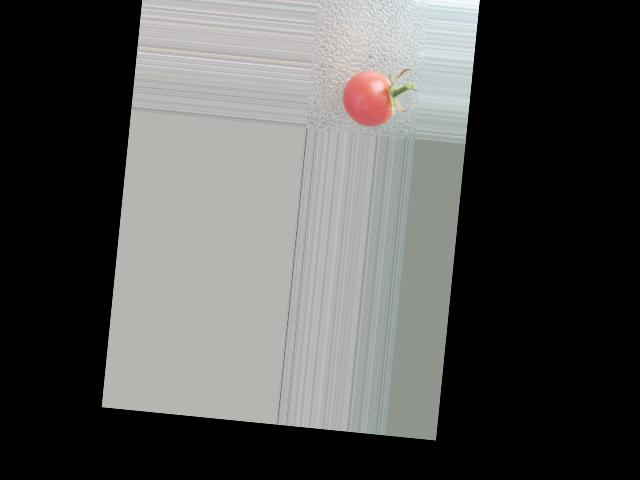tomato: (339, 67, 396, 128)
